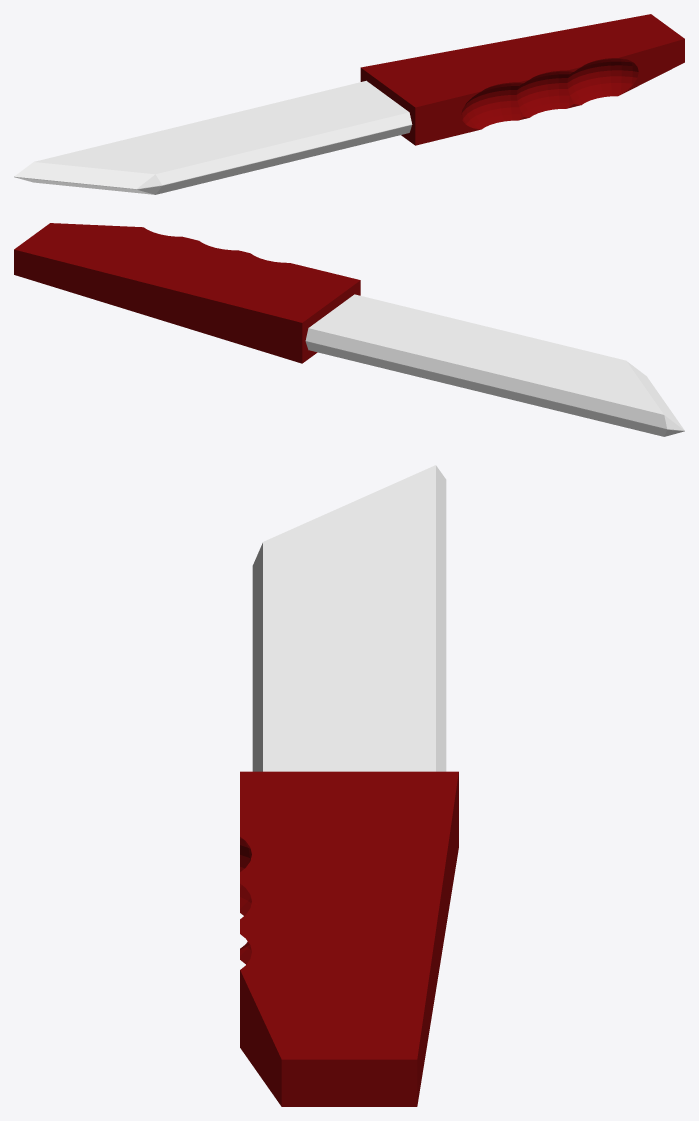
The model's file is small knife.fbx.
The picture shows the model from 3 angles, top to bottom: view 1: azimuth 30°, elevation 25°; view 2: azimuth 150°, elevation 25°; view 3: azimuth 270°, elevation 25°; orthographic projection. The views are drawn at different scales.
Parts seen in each view (by area): view 1: Cube, Plane; view 2: Cube, Plane; view 3: Cube, Plane.
Boxes of the visible parts, box(x1,y1,x2,y2) form: Cube: box(360, 14, 684, 145); Plane: box(14, 80, 412, 194); Cube: box(14, 223, 360, 363); Plane: box(305, 294, 684, 436); Cube: box(240, 771, 458, 1106); Plane: box(252, 465, 446, 771).
Size of the model in its own units: 180 by 10.39 by 26.99.
